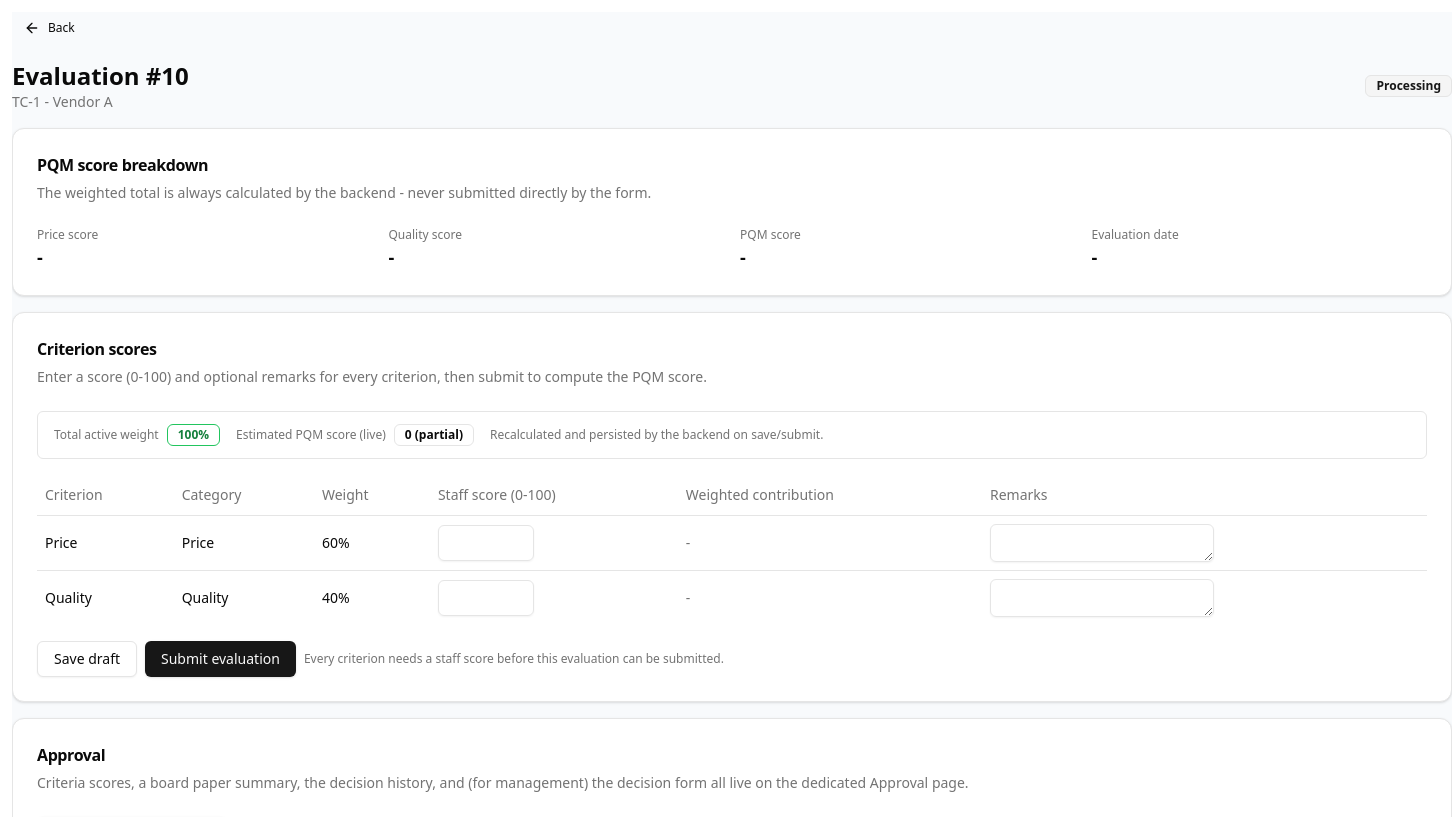
EvaluationDetailPage (Jerrold - Scope B) › blocks submission client-side while a criterion is still unscored
Type "80" into the number field next to "60".
click(486, 542); type("80")  # box [438, 524, 534, 560]
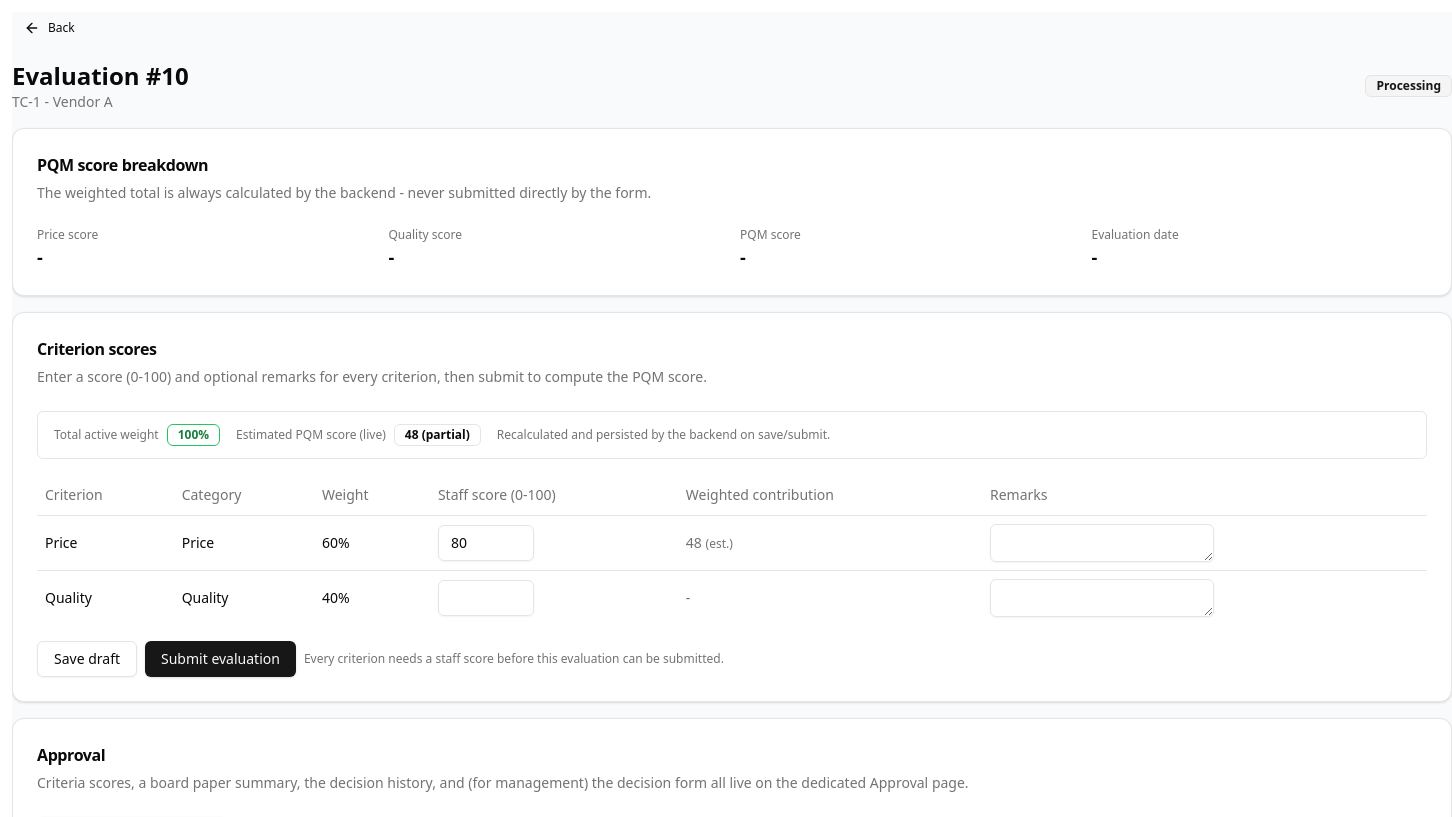
Click the button "Submit evaluation".
click(220, 658)  # box [145, 640, 296, 676]
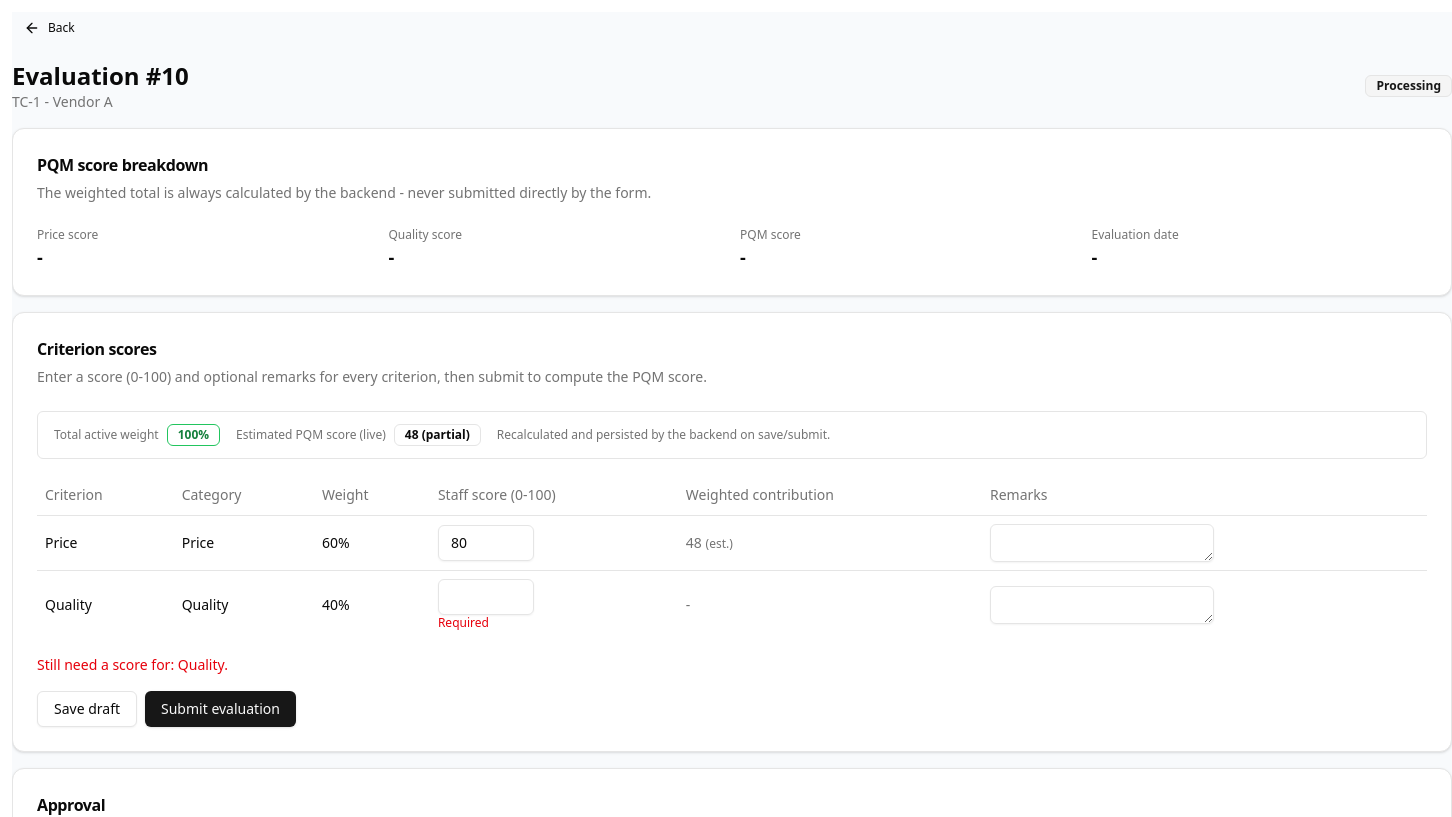
Now the text "Still need a score for: Quality." is shown, box [37, 654, 228, 674]
